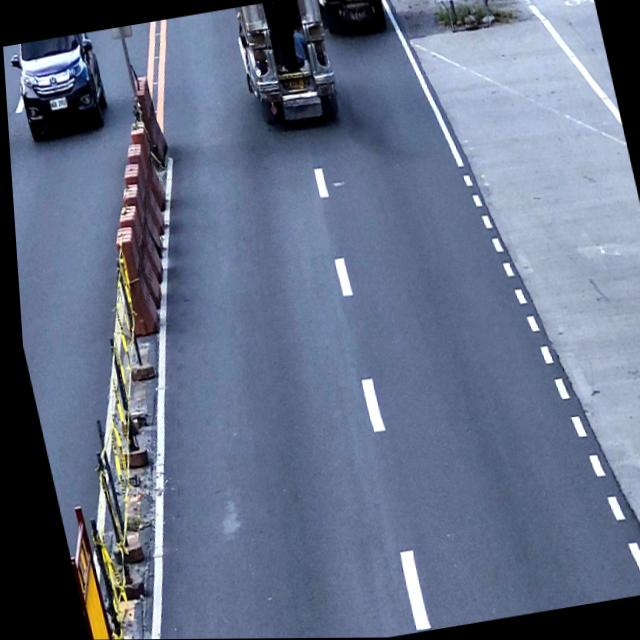Car: (5, 32, 111, 140)
Jeep: (229, 0, 343, 135), (316, 0, 390, 41)
License-Plate: (47, 96, 68, 112), (284, 77, 305, 92), (343, 0, 362, 3)
